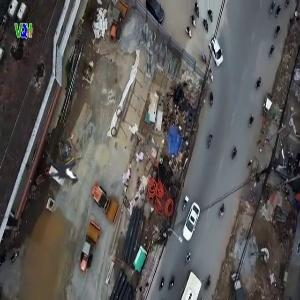drone: (18, 130, 105, 217)
